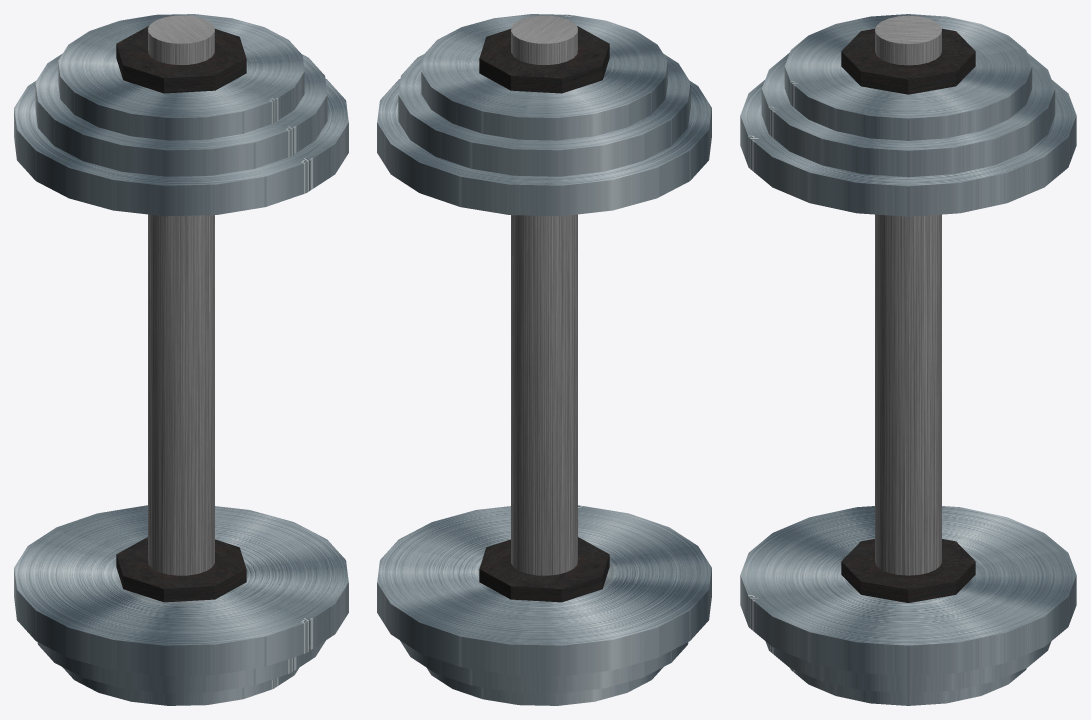
The model's file is Dumble1.fbx.
3 views of the same model, side by side, from view 1: azimuth 30°, elevation 25°; view 2: azimuth 150°, elevation 25°; view 3: azimuth 270°, elevation 25° (orthographic).
Parts seen in each view (by area): view 1: pCylinder1, pCylinder7, pCylinder4, pCylinder6, pCylinder5, pCylinder8, pCylinder10, pCylinder2, pCylinder3; view 2: pCylinder1, pCylinder7, pCylinder4, pCylinder6, pCylinder5, pCylinder8, pCylinder10, pCylinder2, pCylinder3; view 3: pCylinder1, pCylinder7, pCylinder4, pCylinder6, pCylinder5, pCylinder8, pCylinder10, pCylinder2, pCylinder3.
Boxes of the visible parts, <box> form: pCylinder1: <box>14,505,348,675</box>; pCylinder7: <box>148,15,214,575</box>; pCylinder4: <box>58,14,304,140</box>; pCylinder6: <box>14,78,348,216</box>; pCylinder5: <box>35,53,327,176</box>; pCylinder8: <box>116,26,246,93</box>; pCylinder10: <box>116,537,246,602</box>; pCylinder2: <box>37,640,325,693</box>; pCylinder3: <box>62,667,299,705</box>; pCylinder1: <box>377,505,711,675</box>; pCylinder7: <box>511,15,577,575</box>; pCylinder4: <box>421,14,667,140</box>; pCylinder6: <box>377,78,711,216</box>; pCylinder5: <box>398,53,690,176</box>; pCylinder8: <box>479,26,609,93</box>; pCylinder10: <box>479,537,609,602</box>; pCylinder2: <box>400,640,688,693</box>; pCylinder3: <box>426,667,663,705</box>; pCylinder1: <box>740,506,1076,676</box>; pCylinder7: <box>875,15,941,575</box>; pCylinder4: <box>784,14,1032,140</box>; pCylinder6: <box>740,80,1076,216</box>; pCylinder5: <box>761,52,1055,177</box>; pCylinder8: <box>841,28,975,94</box>; pCylinder10: <box>841,539,975,602</box>; pCylinder2: <box>765,641,1051,693</box>; pCylinder3: <box>790,668,1026,705</box>.
Bounding box in the file's own units: 2 × 4.3 × 2.
4 materials, 4 textured.
